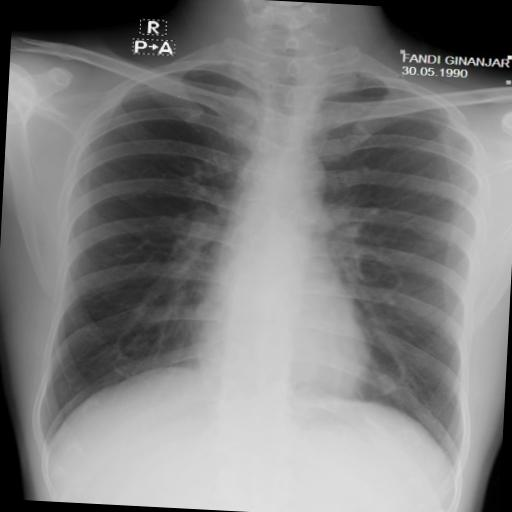normal: (21, 17, 500, 485)
